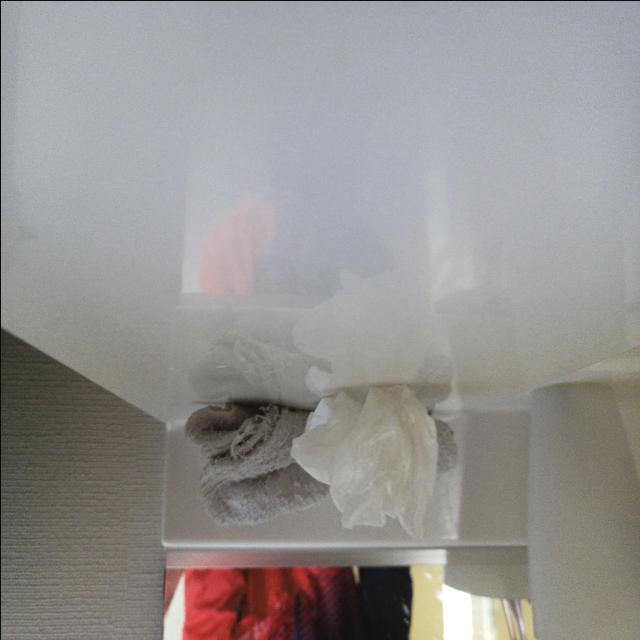Paper: (286, 384, 451, 530)
